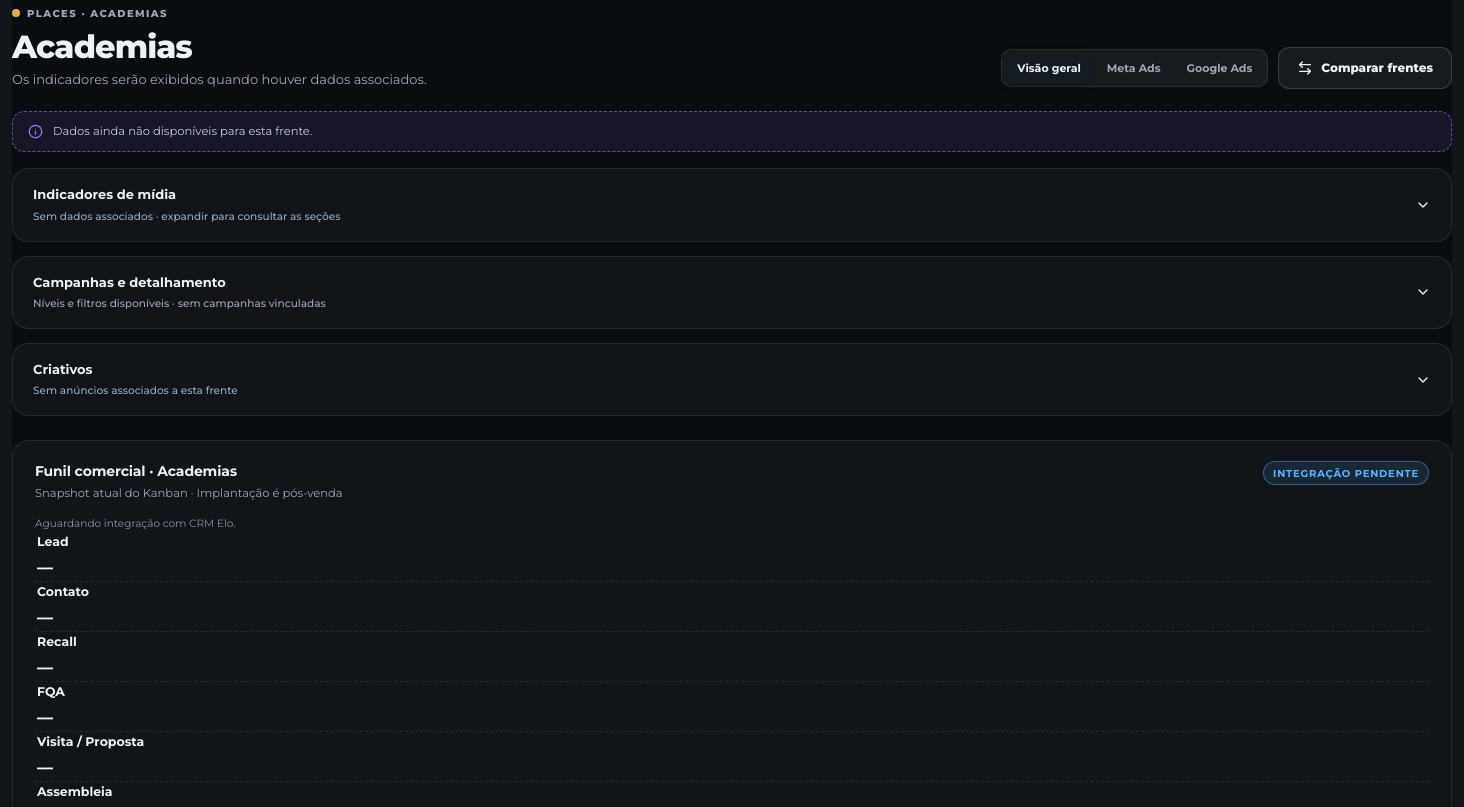
Test: modo Comparar frentes › abre em gym sem criar uma nova página
The width and height of the screenshot is (1464, 807).
Click the button "Comparar frentes" at (1365, 68), box [1278,47,1452,89]
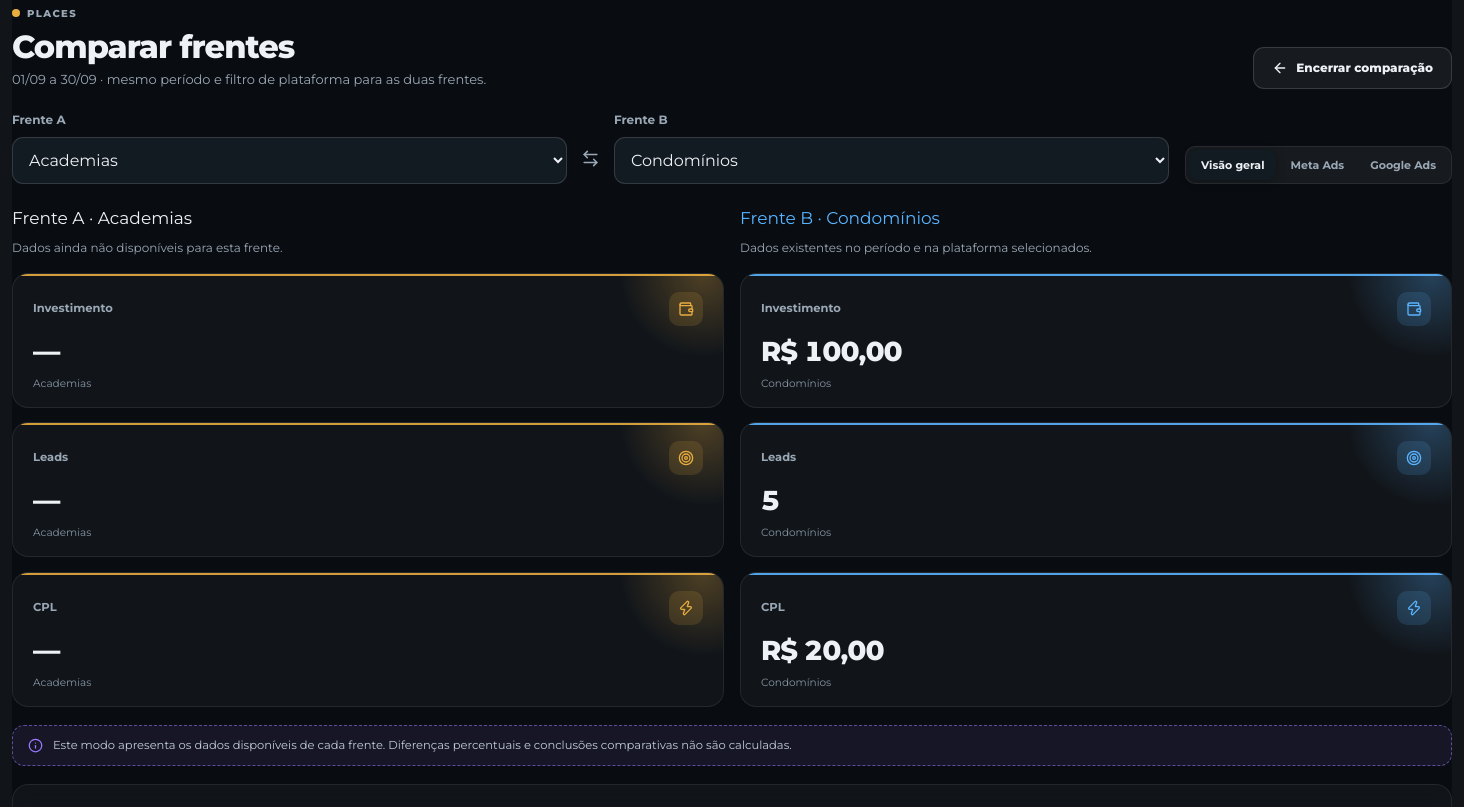
Check: the dropdown labelled "Frente A" shows "Academias", box [12,137,567,184]
Check: the dropdown labelled "Frente B" shows "Condomínios", box [614,137,1169,184]
